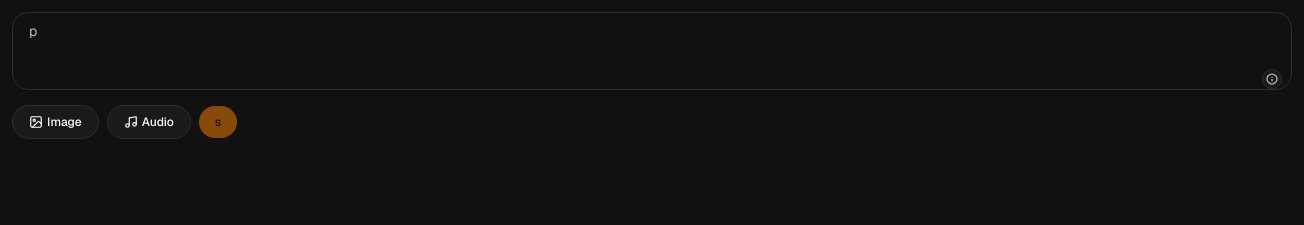
Test case: CommentInput (issue mention picker) › replaces the active mention with @issue:N and a trailing space when an item is picked
Type "See @i" into the text box with placeholder "p". click: (652, 51)
box: [12,12,1292,90]
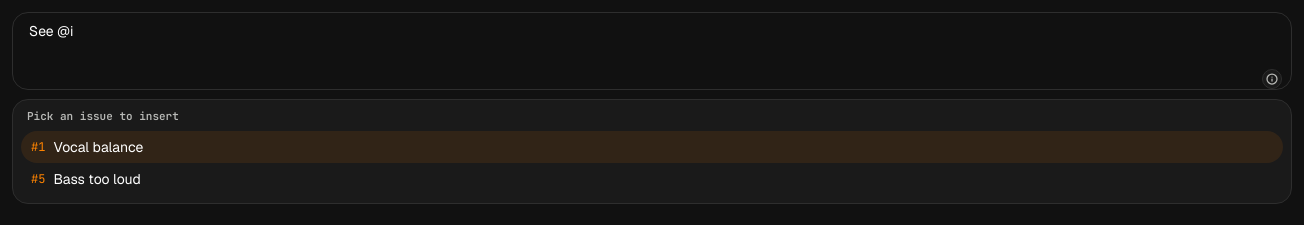
Press the mouse on the option "#5 Bass too loud" at (86, 178), box [31,170,141,188]
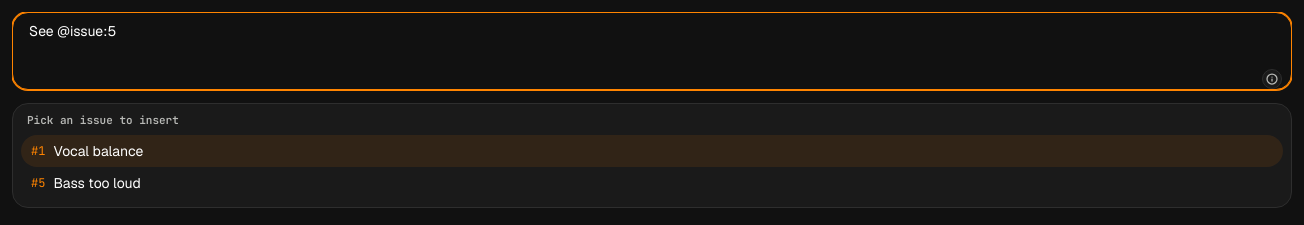
Now the text box holds "See @issue:5 ", box [12,12,1292,90]
